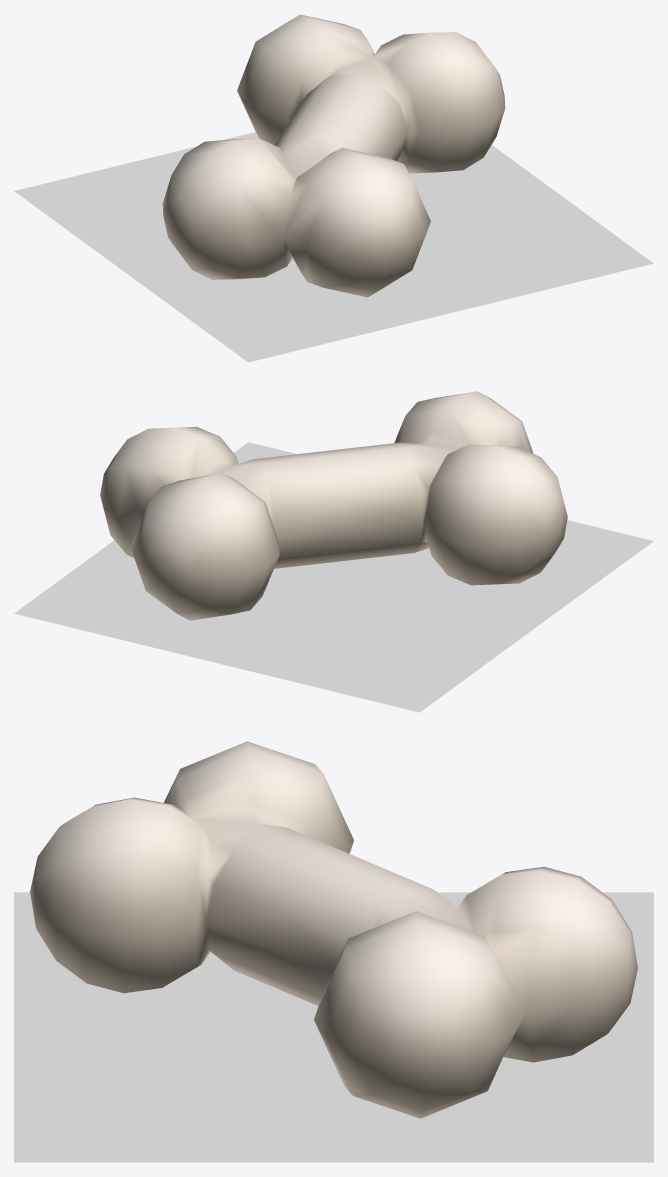
Rendered from VK_Bone.fbx.
The picture shows the model from 3 angles, top to bottom: view 1: azimuth 30°, elevation 25°; view 2: azimuth 150°, elevation 25°; view 3: azimuth 270°, elevation 25°; orthographic projection. The views are drawn at different scales.
Parts seen in each view (by area): view 1: polySurface1, VK_Bone_Grid; view 2: polySurface1, VK_Bone_Grid; view 3: polySurface1, VK_Bone_Grid.
Boxes of the visible parts, box(x1,y1,x2,y2) form: polySurface1: box(162, 14, 505, 297); VK_Bone_Grid: box(14, 132, 653, 362); polySurface1: box(100, 391, 567, 620); VK_Bone_Grid: box(14, 442, 653, 712); polySurface1: box(30, 741, 637, 1118); VK_Bone_Grid: box(14, 892, 653, 1162).
Size of the model in its own units: 1 by 0.3317 by 1.
